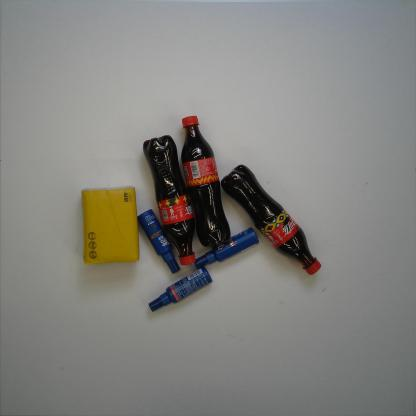Drink: (220, 162, 322, 276), (141, 134, 198, 266), (181, 114, 232, 249)
Personal Hygiene: (148, 266, 214, 312), (137, 207, 181, 275), (193, 226, 260, 270)
Tissue: (79, 186, 140, 266)
